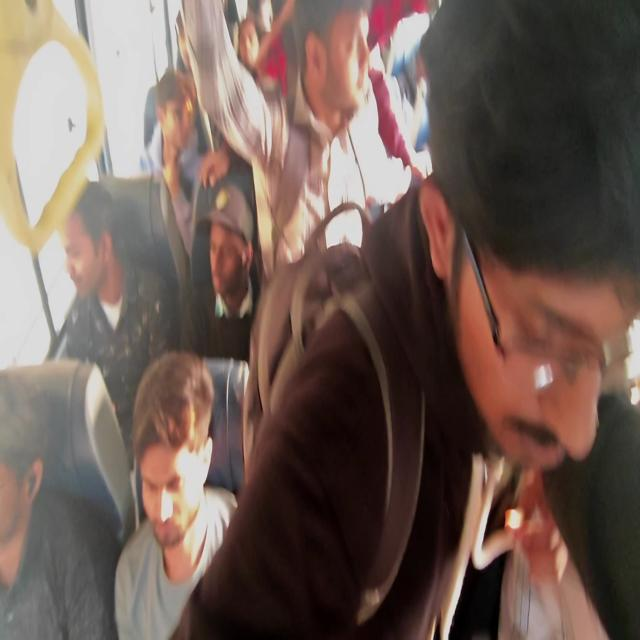person: (447, 123, 640, 474), (125, 364, 206, 556), (291, 0, 398, 126), (49, 192, 135, 304), (2, 370, 49, 562), (201, 182, 261, 305), (154, 69, 196, 147), (408, 34, 438, 96), (173, 15, 200, 72), (244, 0, 279, 35), (236, 21, 260, 71)
